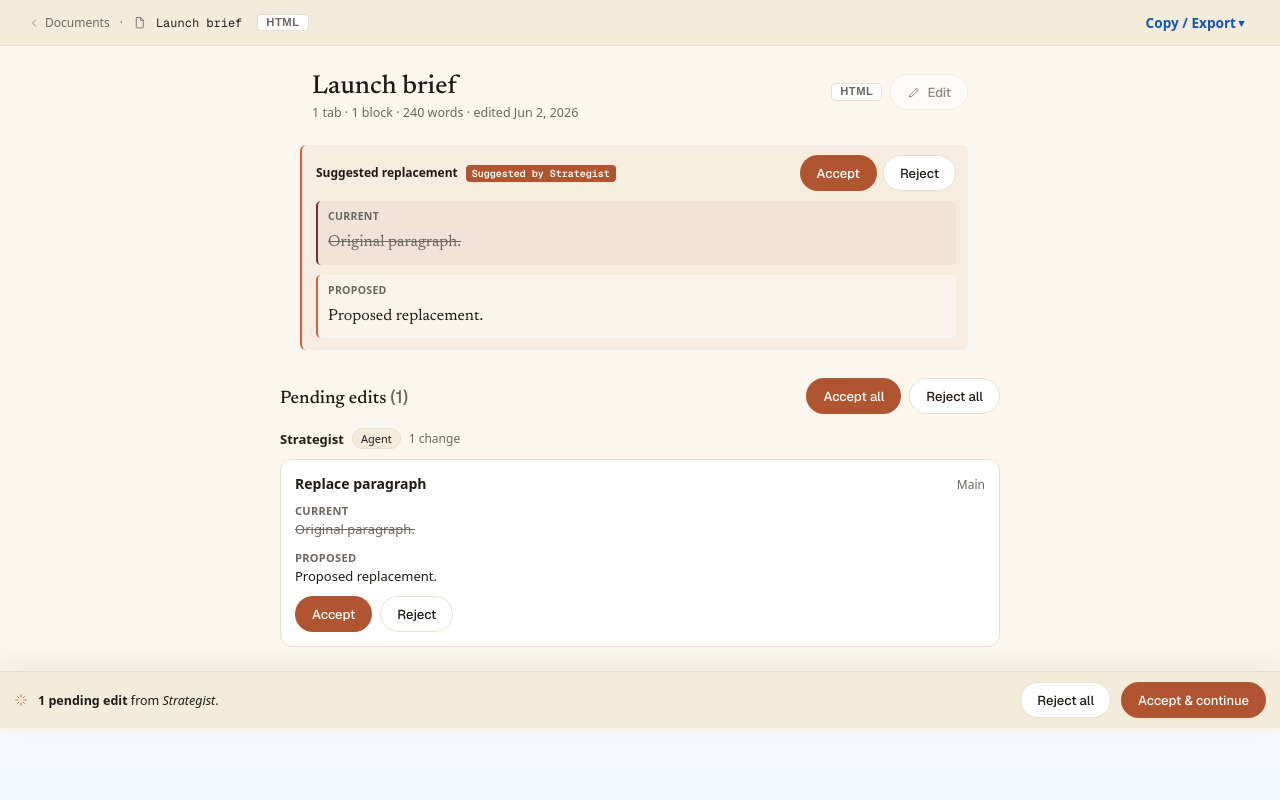
DocumentDetailPage › handles a version conflict: refetches, notifies, and keeps the edit pending
Expected: the heading "Pending edits (1)" is shown, 280,384 -> 408,408
Click the button with aria-label "Accept replace paragraph".
click(334, 614)  # box 295,596 -> 372,632
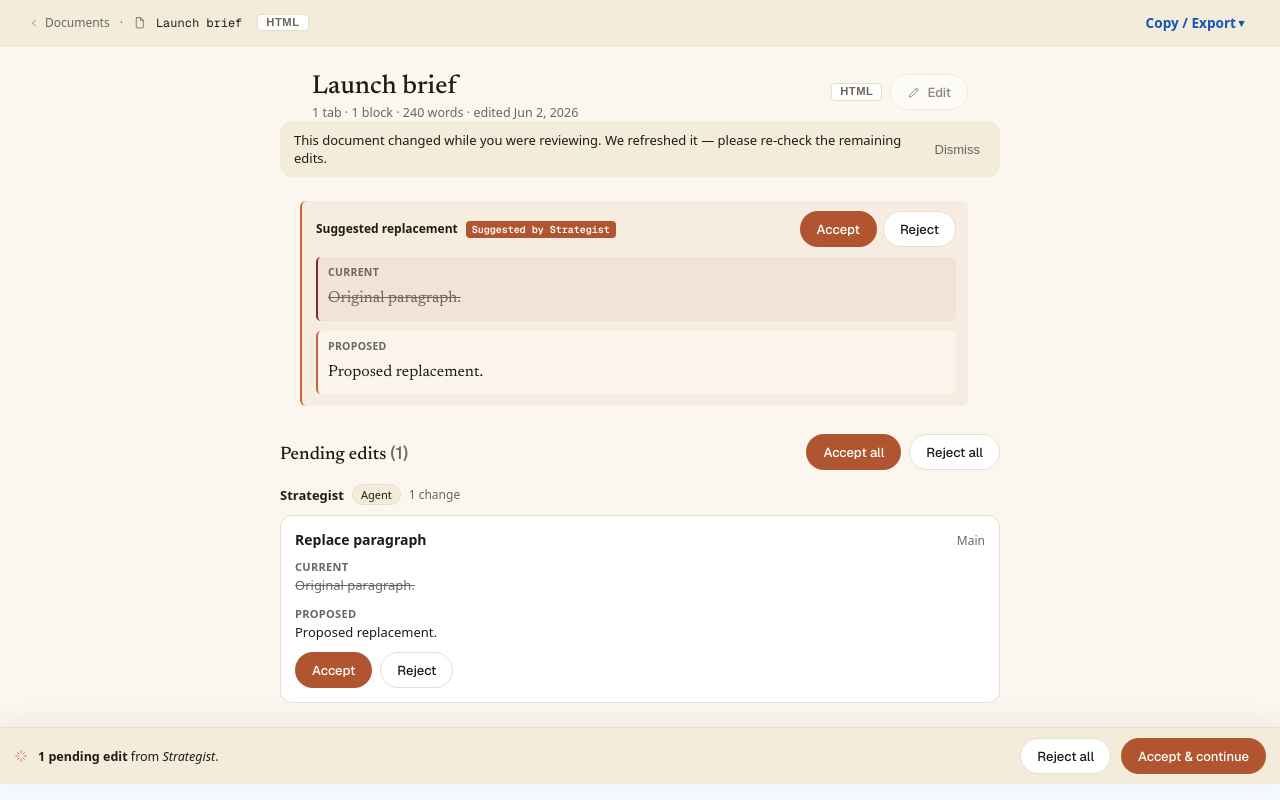
Expected: the text "Replace paragraph" is shown, 295,530 -> 426,549
Expected: the text "changed while you were reviewing" is shown, 294,131 -> 901,167
